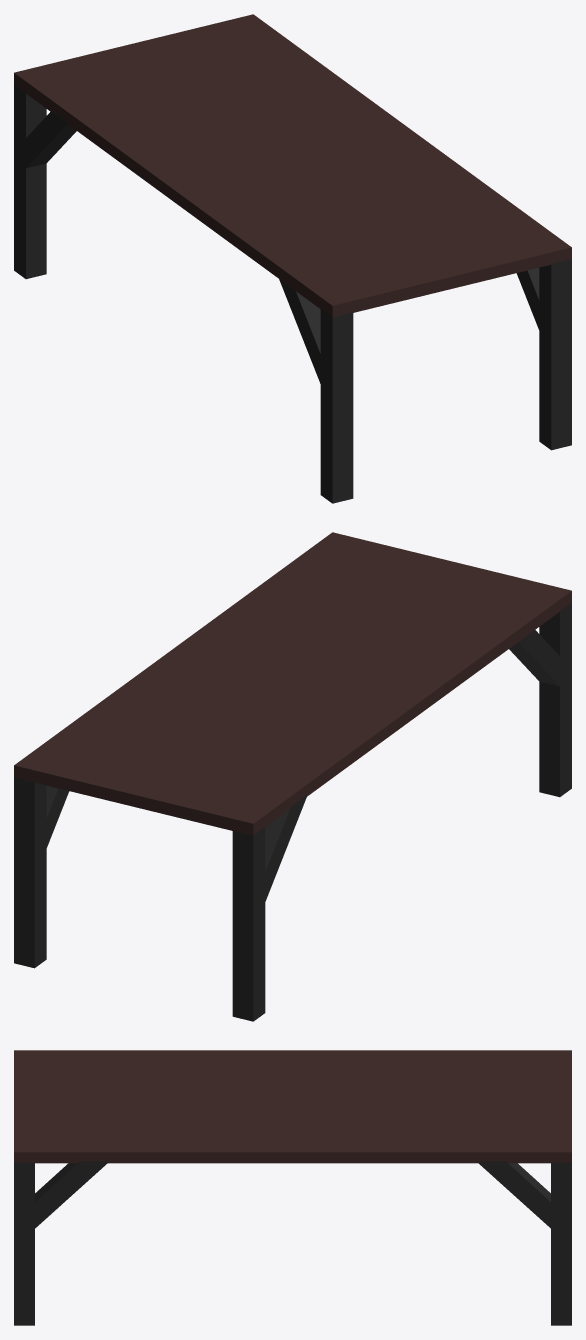
Rendered from GrandeTable_18.fbx.
3 renders of one model, top to bottom at view 1: azimuth 30°, elevation 25°; view 2: azimuth 150°, elevation 25°; view 3: azimuth 270°, elevation 25°, orthographic. The views are drawn at different scales.
Parts seen in each view (by area): view 1: pCube54, pCube52, pCube53, pCube50, pCube60, pCube56, pCube55; view 2: pCube54, pCube50, pCube51, pCube52, pCube60, pCube56, pCube59; view 3: pCube54, pCube51, pCube53, pCube55, pCube59.
Part boxes in pixels (x1,y1,x2,y2): pCube54: (14, 14, 571, 317); pCube52: (320, 309, 353, 503); pCube53: (539, 259, 571, 450); pCube50: (14, 84, 46, 279); pCube60: (24, 110, 76, 169); pCube56: (279, 279, 320, 383); pCube55: (516, 267, 540, 332); pCube54: (14, 532, 571, 835); pCube50: (232, 827, 265, 1021); pCube51: (14, 777, 46, 968); pCube52: (539, 602, 571, 797); pCube60: (264, 794, 307, 904); pCube56: (509, 630, 559, 686); pCube59: (45, 785, 69, 851); pCube54: (14, 1050, 571, 1163); pCube51: (551, 1162, 571, 1325); pCube53: (14, 1162, 34, 1325); pCube55: (33, 1161, 109, 1229); pCube59: (477, 1161, 550, 1228).
Bounding box in the file's own units: 50.24 × 39.67 × 116.
